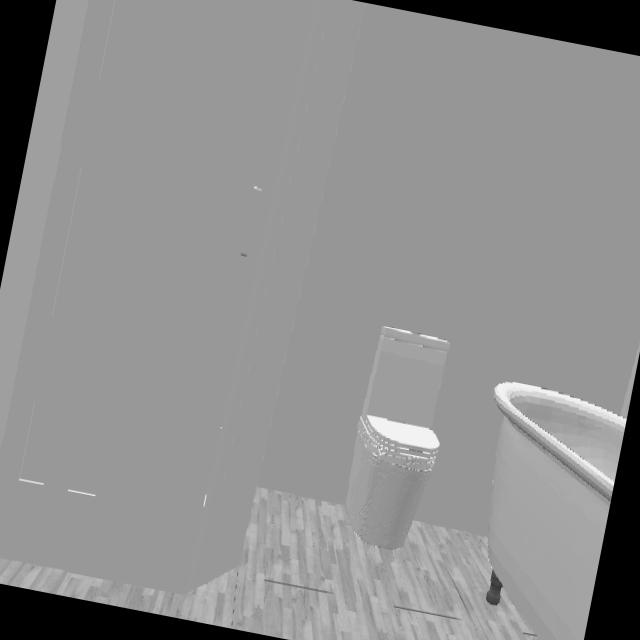bathtube: (486, 382, 626, 640)
shower: (0, 0, 367, 596)
toilet: (344, 328, 449, 554)
